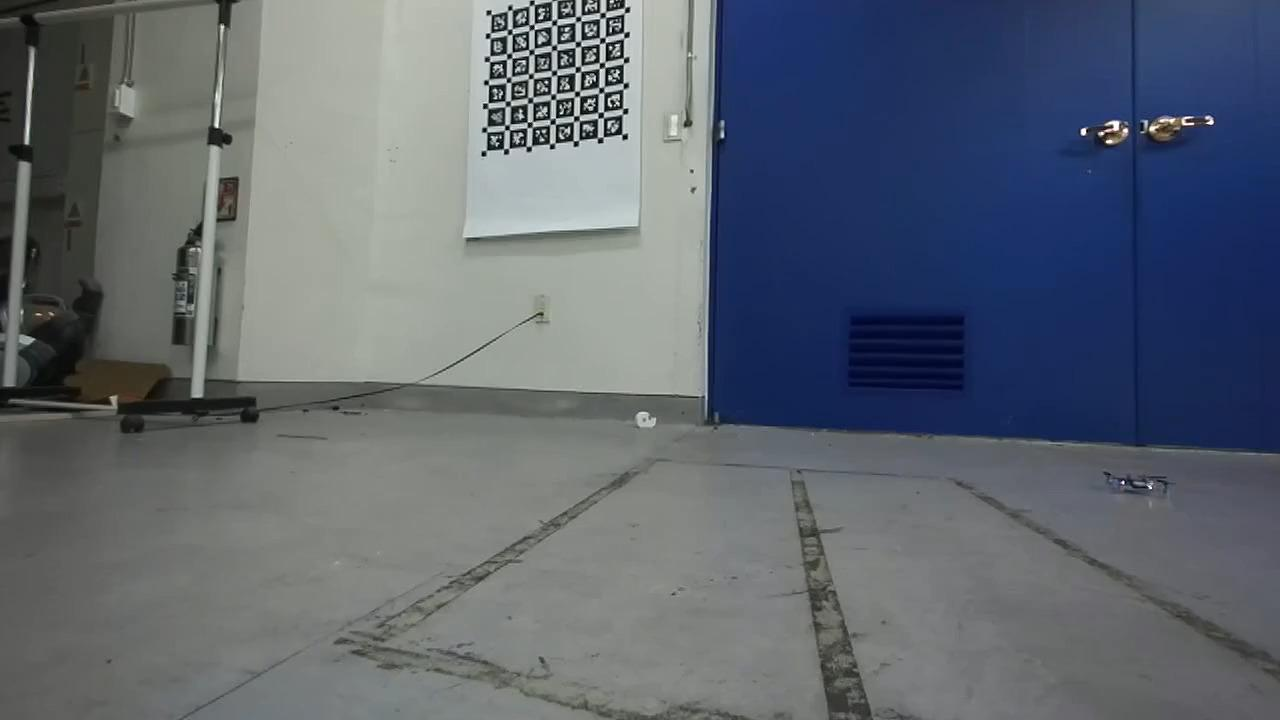crazyflie: (1098, 463, 1167, 499)
